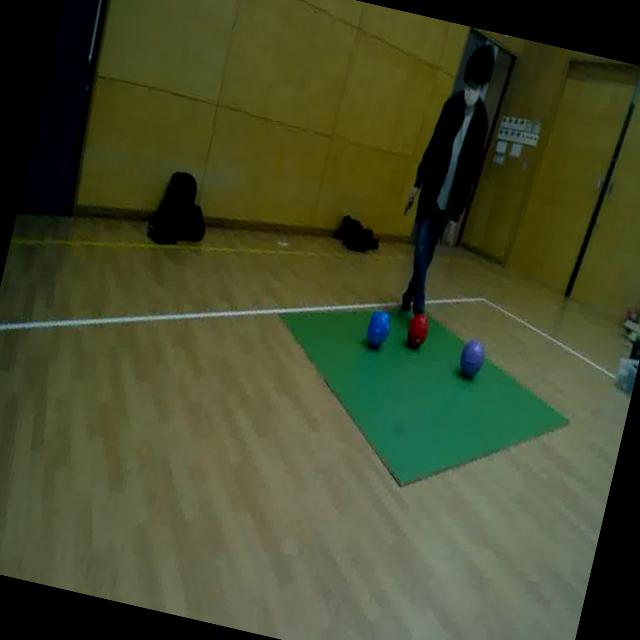blue_ball: (362, 308, 392, 352)
purple_ball: (456, 336, 487, 379)
red_ball: (405, 311, 430, 347)
